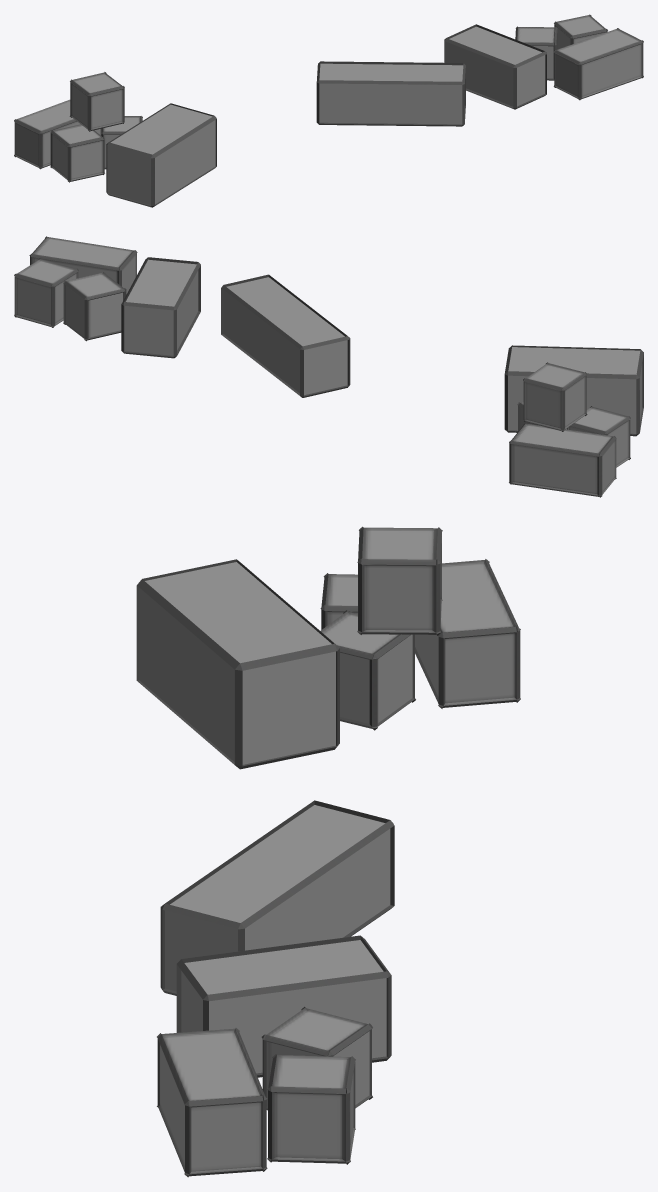
Rendered from Storage_Crates_03.fbx.
3 views of the same model, one above another, from view 1: azimuth 30°, elevation 25°; view 2: azimuth 150°, elevation 25°; view 3: azimuth 270°, elevation 25° (orthographic). The views are drawn at different scales.
Parts seen in each view (by area): view 1: Storage_Crates_03; view 2: Storage_Crates_03; view 3: Storage_Crates_03.
Part boxes in pixels (x1,y1,x2,y2): Storage_Crates_03: [14, 14, 643, 207]; Storage_Crates_03: [14, 236, 643, 497]; Storage_Crates_03: [136, 526, 520, 1177].
Size of the model in its own units: 4061 by 539 by 1216.
